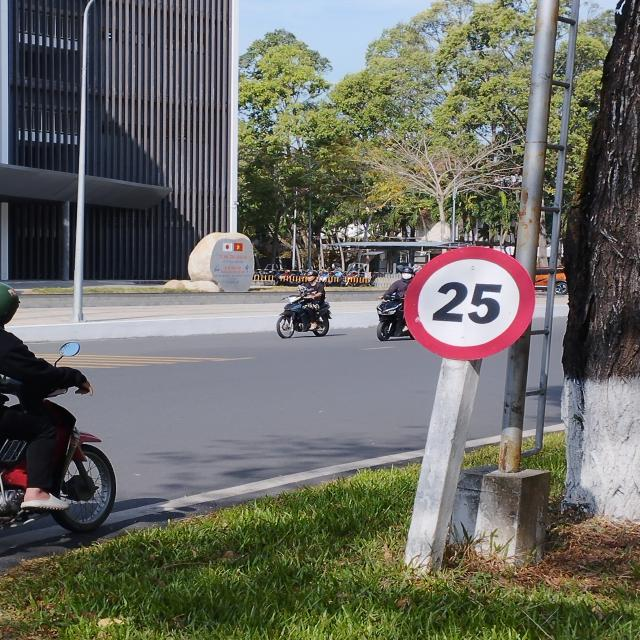Tre_Em: (406, 246, 534, 360)
